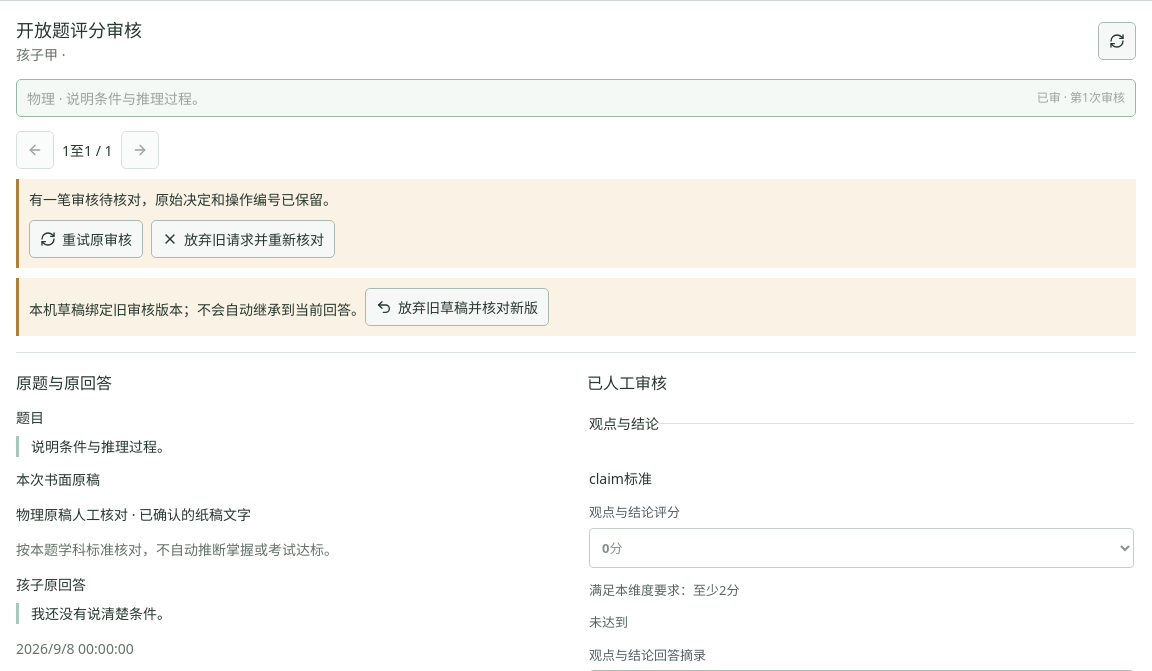
Scenario: Original written review profiles › keeps lost-response review exact across remount and never auto-sends
Earlier steps of the test are not shown.
Later steps or results of the test are not shown.
Click the button "重试原审核".
click(86, 239)  # box top-left (29, 220), bottom-right (143, 258)
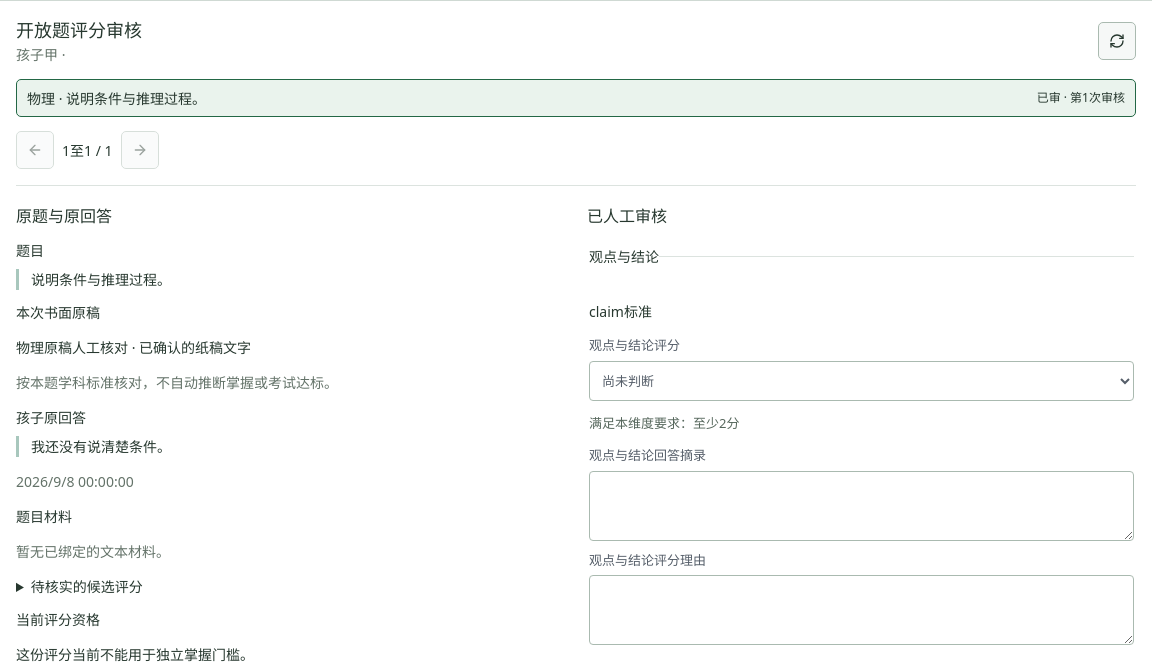
Now the button "重试原审核" is gone
